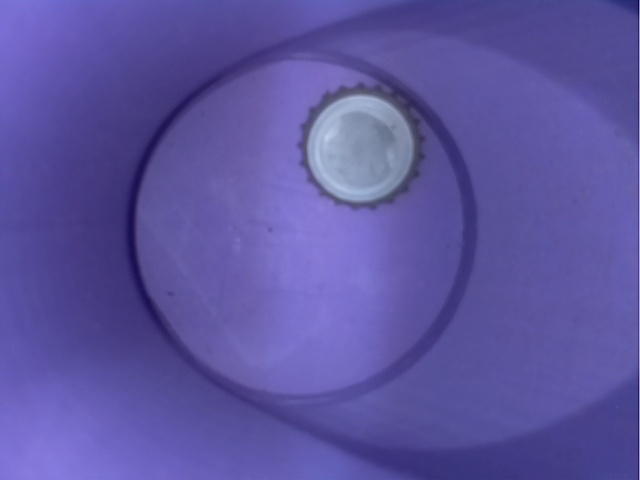capsule: (280, 64, 447, 220)
